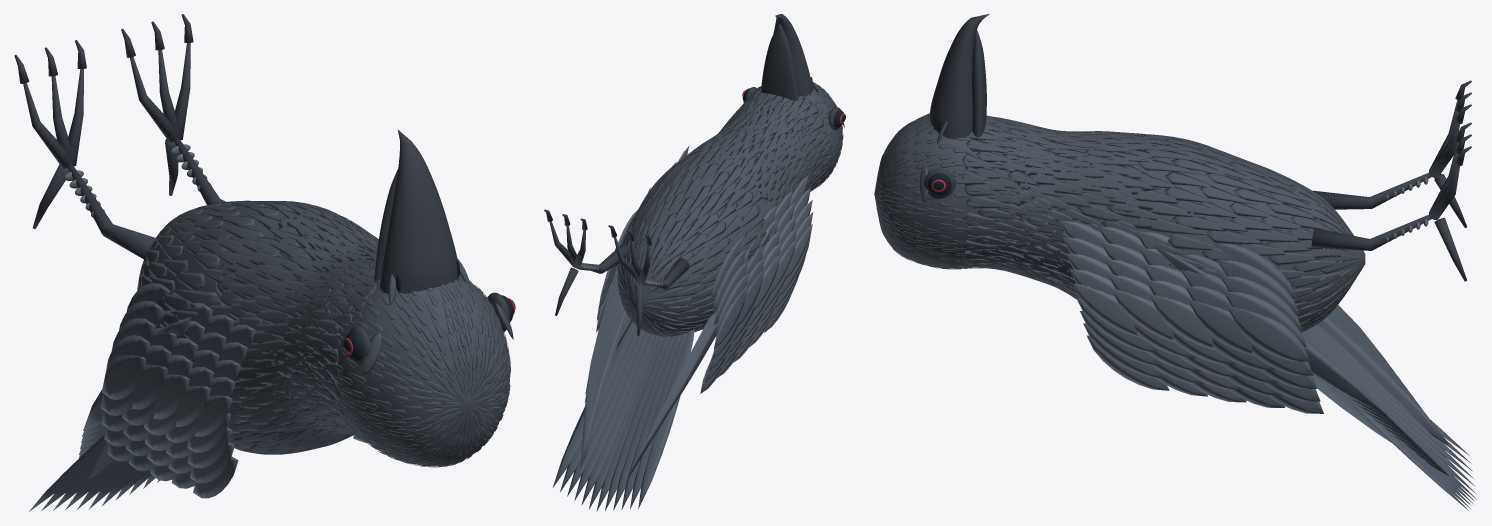
The model's file is perched.glb.
The picture shows the model from 3 angles, left to right: view 1: azimuth 30°, elevation 25°; view 2: azimuth 150°, elevation 25°; view 3: azimuth 270°, elevation 25°; orthographic projection. The views are drawn at different scales.
Visible parts, largest first — view 1: perched-0, perched-3, perched-2, perched-1, perched-5; view 2: perched-0, perched-1, perched-3, perched-2; view 3: perched-0, perched-1, perched-2, perched-3.
Part boxes in pixels (bbox=[...]): perched-0: bbox=[137, 200, 513, 467]; perched-3: bbox=[14, 14, 509, 366]; perched-2: bbox=[64, 144, 367, 498]; perched-1: bbox=[29, 283, 191, 511]; perched-5: bbox=[343, 260, 515, 360]; perched-0: bbox=[617, 80, 844, 336]; perched-1: bbox=[553, 187, 777, 511]; perched-3: bbox=[544, 14, 840, 335]; perched-2: bbox=[576, 146, 813, 362]; perched-0: bbox=[874, 113, 1365, 332]; perched-1: bbox=[1153, 241, 1476, 511]; perched-2: bbox=[1059, 177, 1428, 402]; perched-3: bbox=[924, 14, 1471, 281].
Bounding box in the file's own units: 0.7735 × 1.93 × 2.19.
